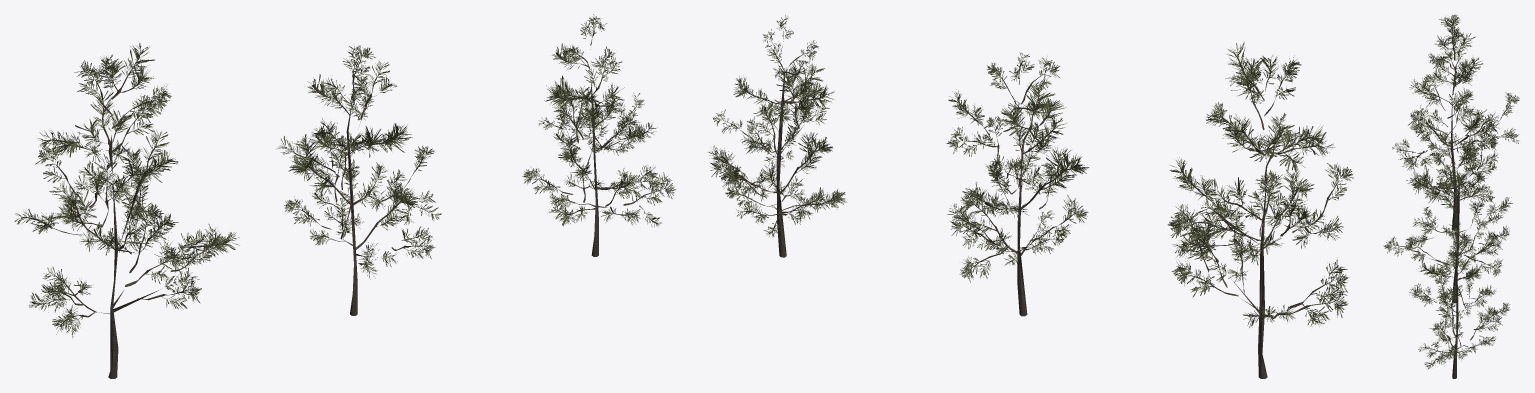
File: PineSapling.glb
The picture shows the model from 3 angles, left to right: view 1: azimuth 30°, elevation 25°; view 2: azimuth 150°, elevation 25°; view 3: azimuth 270°, elevation 25°; orthographic projection. The views are drawn at different scales.
Parts seen in each view (by area): view 1: pine_sapling_small_a, pine_sapling_small_b, pine_sapling_small_c; view 2: pine_sapling_small_a, pine_sapling_small_b, pine_sapling_small_c; view 3: pine_sapling_small_a, pine_sapling_small_b, pine_sapling_small_c.
Part boxes in pixels (x1=…): pine_sapling_small_a: x1=14, y1=43, x2=239, y2=378; pine_sapling_small_b: x1=276, y1=45, x2=441, y2=315; pine_sapling_small_c: x1=522, y1=14, x2=675, y2=256; pine_sapling_small_a: x1=1167, y1=42, x2=1353, y2=378; pine_sapling_small_b: x1=946, y1=52, x2=1089, y2=316; pine_sapling_small_c: x1=708, y1=15, x2=846, y2=257; pine_sapling_small_a: x1=1392, y1=14, x2=1519, y2=229; pine_sapling_small_b: x1=1383, y1=133, x2=1512, y2=303; pine_sapling_small_c: x1=1409, y1=222, x2=1509, y2=378.
Bounding box in the file's own units: 2.64 × 1.3 × 0.7699.
Materials: 2 (2 with a texture image).
